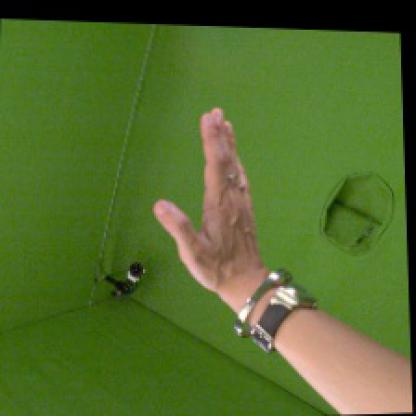Hand: (152, 106, 264, 293)
